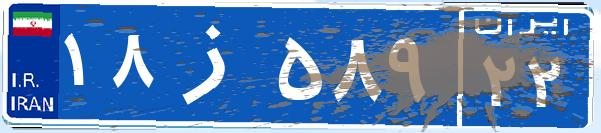1: (57, 26, 110, 107)
2: (475, 38, 525, 113), (525, 38, 570, 115)
5: (273, 28, 330, 110)
8: (330, 28, 385, 110), (110, 28, 158, 105)
9: (385, 28, 445, 110)
ز: (158, 15, 273, 115)
